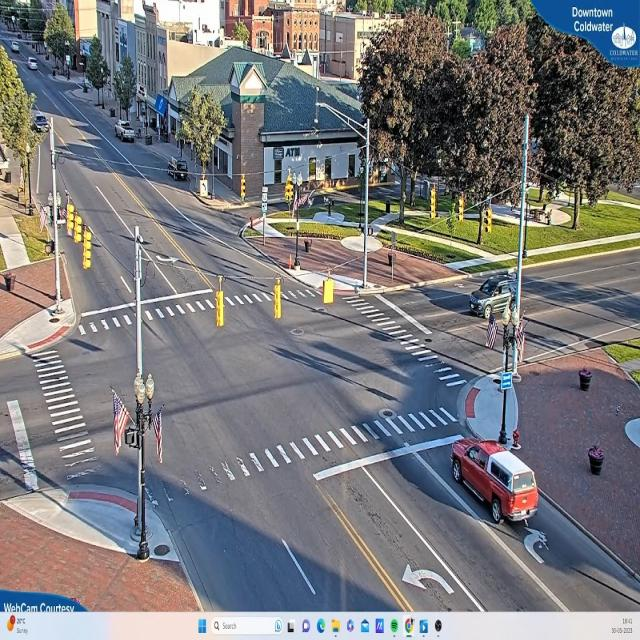car: (451, 437, 540, 526), (468, 278, 520, 319), (117, 122, 137, 144)
